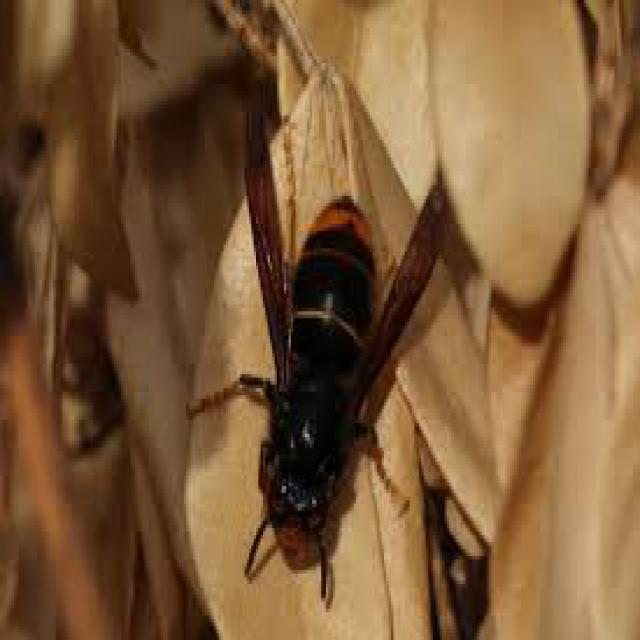Vespa Velutina: (185, 100, 458, 610)
